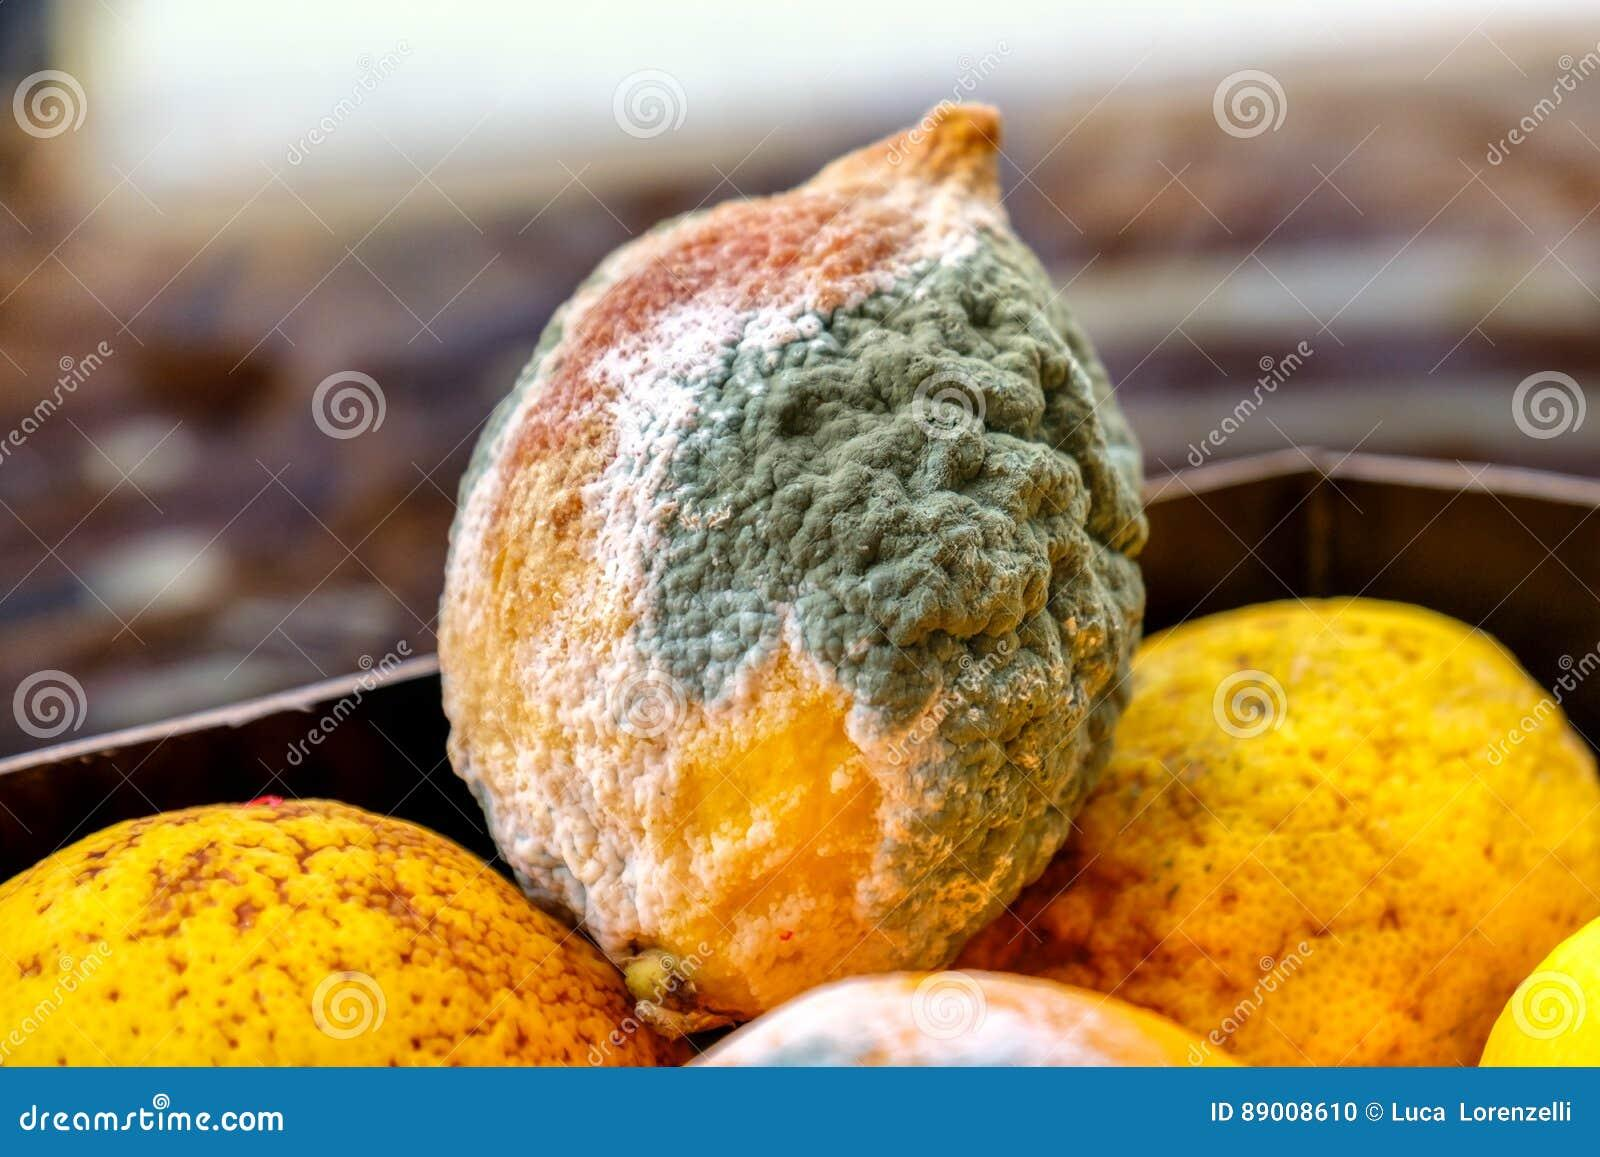organic: (440, 104, 1145, 1015), (960, 599, 1599, 1064), (0, 800, 689, 1065)
